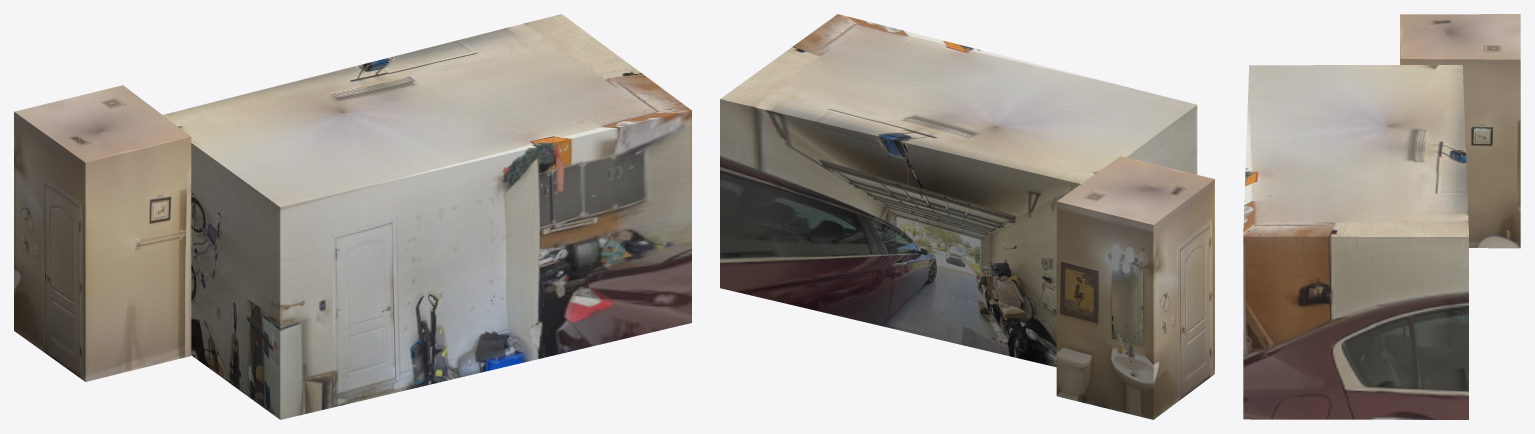
File: floor2.glb
3 views of the same model, side by side, from view 1: azimuth 30°, elevation 25°; view 2: azimuth 150°, elevation 25°; view 3: azimuth 270°, elevation 25° (orthographic). The views are drawn at different scales.
Visible parts, largest first — view 1: 08ded219 6641 42b0 8ea0 8dbb0c720aeb Mesh, 08ded219 539a 44d4 8a5b 58f09a692004 Mesh; view 2: 08ded219 6641 42b0 8ea0 8dbb0c720aeb Mesh, 08ded219 539a 44d4 8a5b 58f09a692004 Mesh; view 3: 08ded219 6641 42b0 8ea0 8dbb0c720aeb Mesh, 08ded219 539a 44d4 8a5b 58f09a692004 Mesh.
Boxes of the visible parts, <box> form: 08ded219 6641 42b0 8ea0 8dbb0c720aeb Mesh: <box>163,14,691,419</box>; 08ded219 539a 44d4 8a5b 58f09a692004 Mesh: <box>14,85,191,381</box>; 08ded219 6641 42b0 8ea0 8dbb0c720aeb Mesh: <box>720,14,1197,367</box>; 08ded219 539a 44d4 8a5b 58f09a692004 Mesh: <box>1056,156,1214,419</box>; 08ded219 6641 42b0 8ea0 8dbb0c720aeb Mesh: <box>1243,65,1468,419</box>; 08ded219 539a 44d4 8a5b 58f09a692004 Mesh: <box>1400,14,1520,248</box>.
Size of the model in its own units: 7.62 by 3.08 by 4.11.
Materials: 6 (6 with a texture image).
